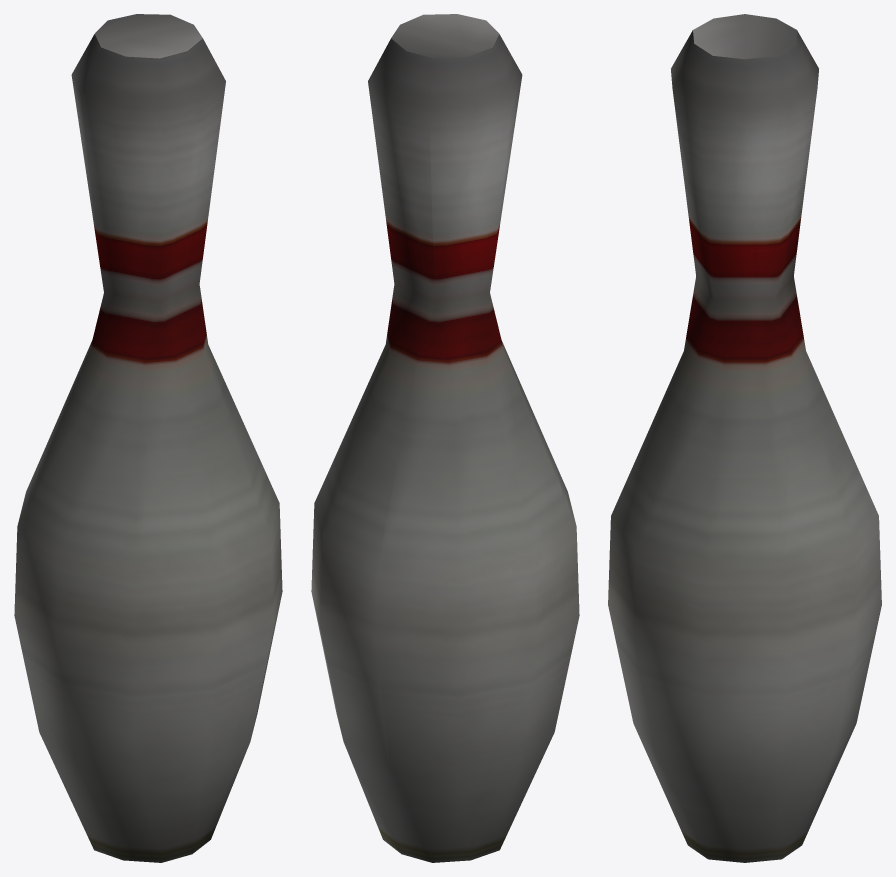
The model's file is PinDefoult_low.fbx.
The picture shows the model from 3 angles, left to right: view 1: azimuth 30°, elevation 25°; view 2: azimuth 150°, elevation 25°; view 3: azimuth 270°, elevation 25°; orthographic projection.
Visible parts, largest first — view 1: Kegel1_low; view 2: Kegel1_low; view 3: Kegel1_low.
Part boxes in pixels (left/top/right/bottom): Kegel1_low: left=14, top=14, right=282, bottom=862; Kegel1_low: left=311, top=14, right=579, bottom=862; Kegel1_low: left=608, top=14, right=881, bottom=862.
Bounding box in the file's own units: 2.13 × 7.23 × 2.24.
